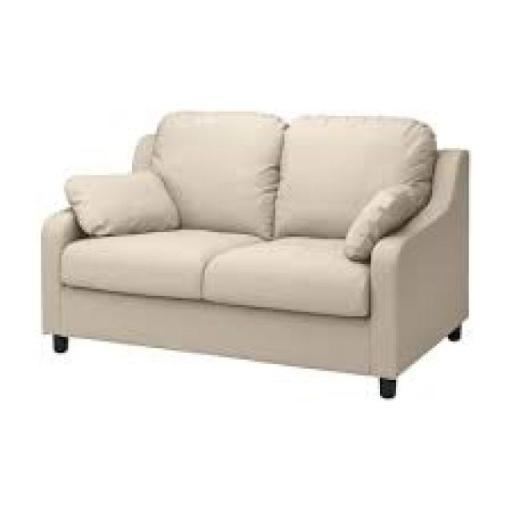sofa: (25, 91, 491, 442)
